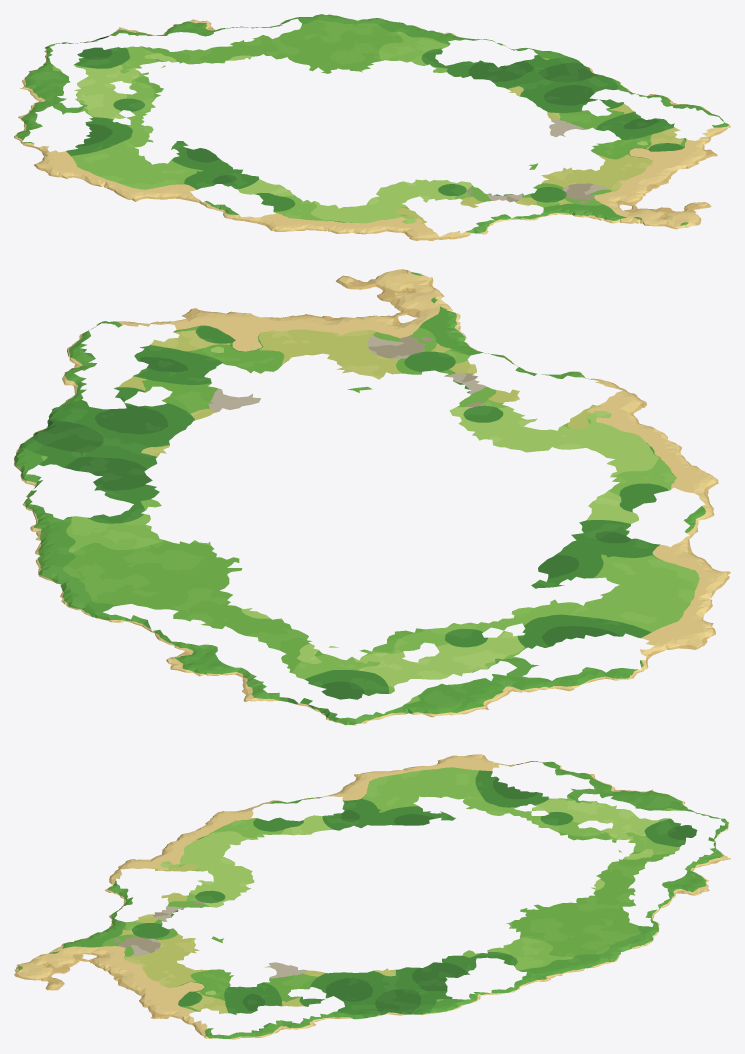
File: Isl-hilly3-Ground.fbx
The picture shows the model from 3 angles, top to bottom: view 1: azimuth 30°, elevation 25°; view 2: azimuth 150°, elevation 25°; view 3: azimuth 270°, elevation 25°; orthographic projection. The views are drawn at different scales.
Parts seen in each view (by area): view 1: Isl-hilly3-Ground-c21, Isl-hilly3-Ground-c12, Isl-hilly3-Ground-c22, Isl-hilly3-Ground-c11, Isl-hilly3-Ground-c20, Isl-hilly3-Ground-c31, Isl-hilly3-Ground-c13; view 2: Isl-hilly3-Ground-c12, Isl-hilly3-Ground-c21, Isl-hilly3-Ground-c22, Isl-hilly3-Ground-c11, Isl-hilly3-Ground-c20, Isl-hilly3-Ground-c31, Isl-hilly3-Ground-c13; view 3: Isl-hilly3-Ground-c21, Isl-hilly3-Ground-c12, Isl-hilly3-Ground-c22, Isl-hilly3-Ground-c11, Isl-hilly3-Ground-c31, Isl-hilly3-Ground-c20, Isl-hilly3-Ground-c13.
Boxes of the visible parts, x1=… form: Isl-hilly3-Ground-c21: x1=406, y1=72, x2=705, y2=234; Isl-hilly3-Ground-c12: x1=14, y1=28, x2=238, y2=190; Isl-hilly3-Ground-c22: x1=195, y1=14, x2=590, y2=91; Isl-hilly3-Ground-c11: x1=113, y1=161, x2=472, y2=240; Isl-hilly3-Ground-c20: x1=586, y1=202, x2=711, y2=229; Isl-hilly3-Ground-c31: x1=590, y1=73, x2=730, y2=159; Isl-hilly3-Ground-c13: x1=43, y1=22, x2=194, y2=65; Isl-hilly3-Ground-c12: x1=200, y1=551, x2=715, y2=717; Isl-hilly3-Ground-c21: x1=49, y1=311, x2=584, y2=453; Isl-hilly3-Ground-c22: x1=14, y1=427, x2=260, y2=659; Isl-hilly3-Ground-c11: x1=493, y1=378, x2=730, y2=590; Isl-hilly3-Ground-c20: x1=336, y1=269, x2=460, y2=331; Isl-hilly3-Ground-c31: x1=46, y1=308, x2=214, y2=427; Isl-hilly3-Ground-c13: x1=185, y1=659, x2=406, y2=725; Isl-hilly3-Ground-c21: x1=87, y1=883, x2=390, y2=1011; Isl-hilly3-Ground-c12: x1=388, y1=756, x2=691, y2=884; Isl-hilly3-Ground-c22: x1=388, y1=882, x2=692, y2=1012; Isl-hilly3-Ground-c11: x1=109, y1=771, x2=390, y2=885; Isl-hilly3-Ground-c31: x1=149, y1=1008, x2=388, y2=1039; Isl-hilly3-Ground-c20: x1=14, y1=937, x2=92, y2=990; Isl-hilly3-Ground-c13: x1=685, y1=810, x2=730, y2=885.
Size of the model in its own units: 118 by 0.4897 by 126.
